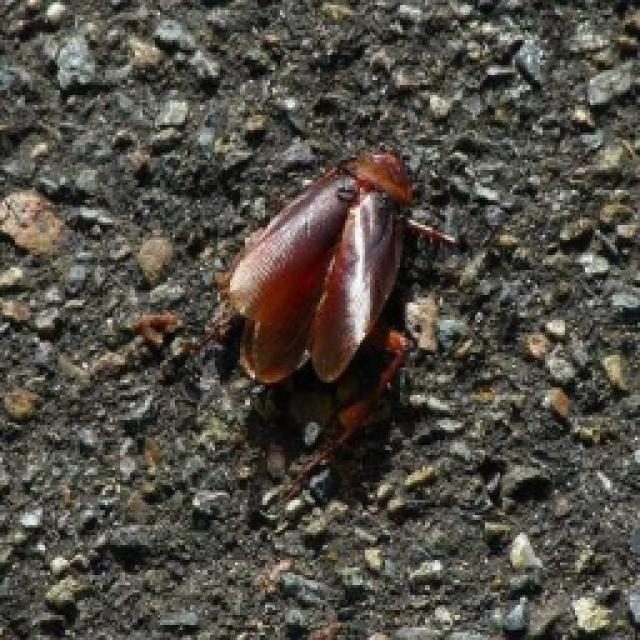cockroach: (224, 148, 415, 387)
